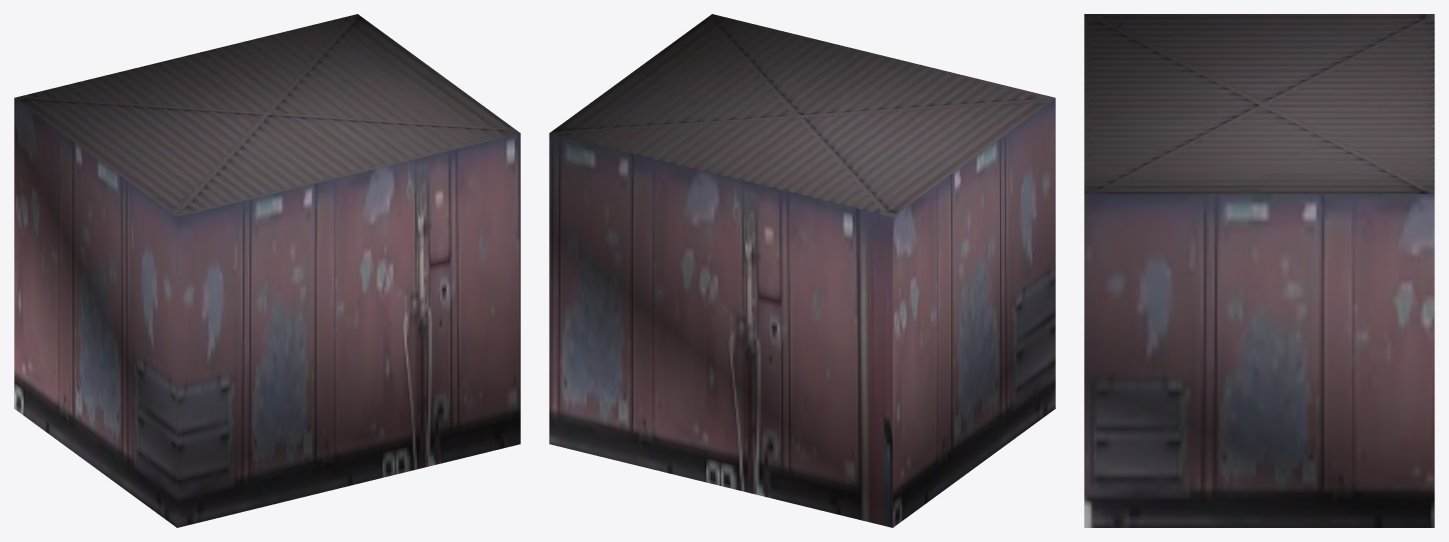
3 renders of one model, left to right at view 1: azimuth 30°, elevation 25°; view 2: azimuth 150°, elevation 25°; view 3: azimuth 270°, elevation 25°, orthographic. The views are drawn at different scales.
Parts seen in each view (by area): view 1: Box_1; view 2: Box_1; view 3: Box_1.
Part boxes in pixels (x1=…): Box_1: x1=14, y1=14, x2=520, y2=527; Box_1: x1=549, y1=14, x2=1055, y2=527; Box_1: x1=1084, y1=14, x2=1434, y2=527.
Size of the model in its own units: 4.07 by 3.52 by 3.35.
Materials: 1 (1 with a texture image).
